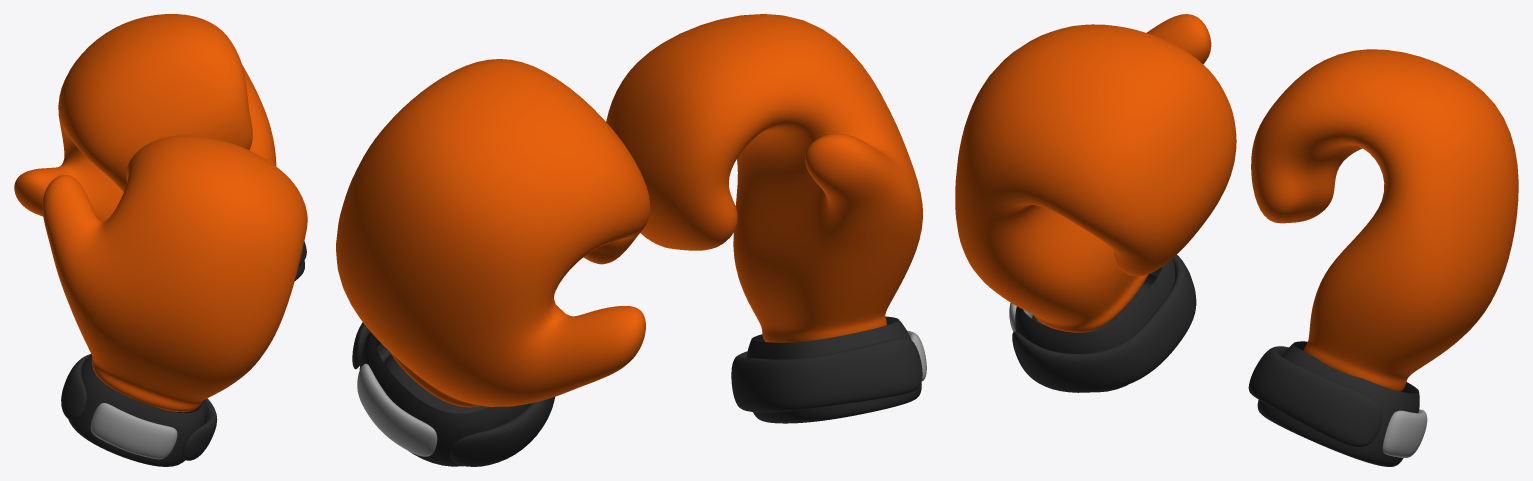
The model's file is boxing-animated-3d-icon-1148688096271.glb.
3 views of the same model, side by side, from view 1: azimuth 30°, elevation 25°; view 2: azimuth 150°, elevation 25°; view 3: azimuth 270°, elevation 25° (orthographic). The views are drawn at different scales.
Visible parts, largest first — view 1: Boxing Glove, Boxing Glove.001, Wrist Lock, Detail; view 2: Boxing Glove.001, Boxing Glove, Wrist Lock, Wrist Lock.001, Detail.001; view 3: Boxing Glove, Boxing Glove.001, Wrist Lock, Wrist Lock.001, Detail.001.
Boxes of the visible parts, x1=… form: Boxing Glove: x1=42, y1=135, x2=307, y2=412; Boxing Glove.001: x1=14, y1=14, x2=276, y2=221; Wrist Lock: x1=61, y1=354, x2=217, y2=466; Detail: x1=90, y1=403, x2=177, y2=459; Boxing Glove.001: x1=336, y1=59, x2=650, y2=407; Boxing Glove: x1=606, y1=14, x2=922, y2=342; Wrist Lock: x1=731, y1=316, x2=922, y2=423; Wrist Lock.001: x1=352, y1=322, x2=554, y2=466; Detail.001: x1=357, y1=363, x2=437, y2=456; Boxing Glove: x1=955, y1=14, x2=1236, y2=332; Boxing Glove.001: x1=1251, y1=49, x2=1518, y2=391; Wrist Lock: x1=1012, y1=254, x2=1196, y2=392; Wrist Lock.001: x1=1248, y1=341, x2=1419, y2=466; Detail.001: x1=1382, y1=409, x2=1427, y2=457.
Size of the model in its own units: 3.46 by 3.15 by 4.07.
